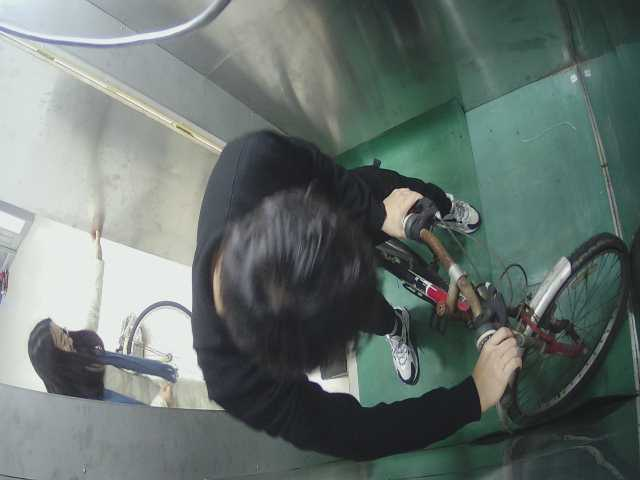bicycle: (364, 210, 627, 428), (117, 293, 207, 381)
person: (192, 130, 523, 466), (26, 314, 236, 415)
